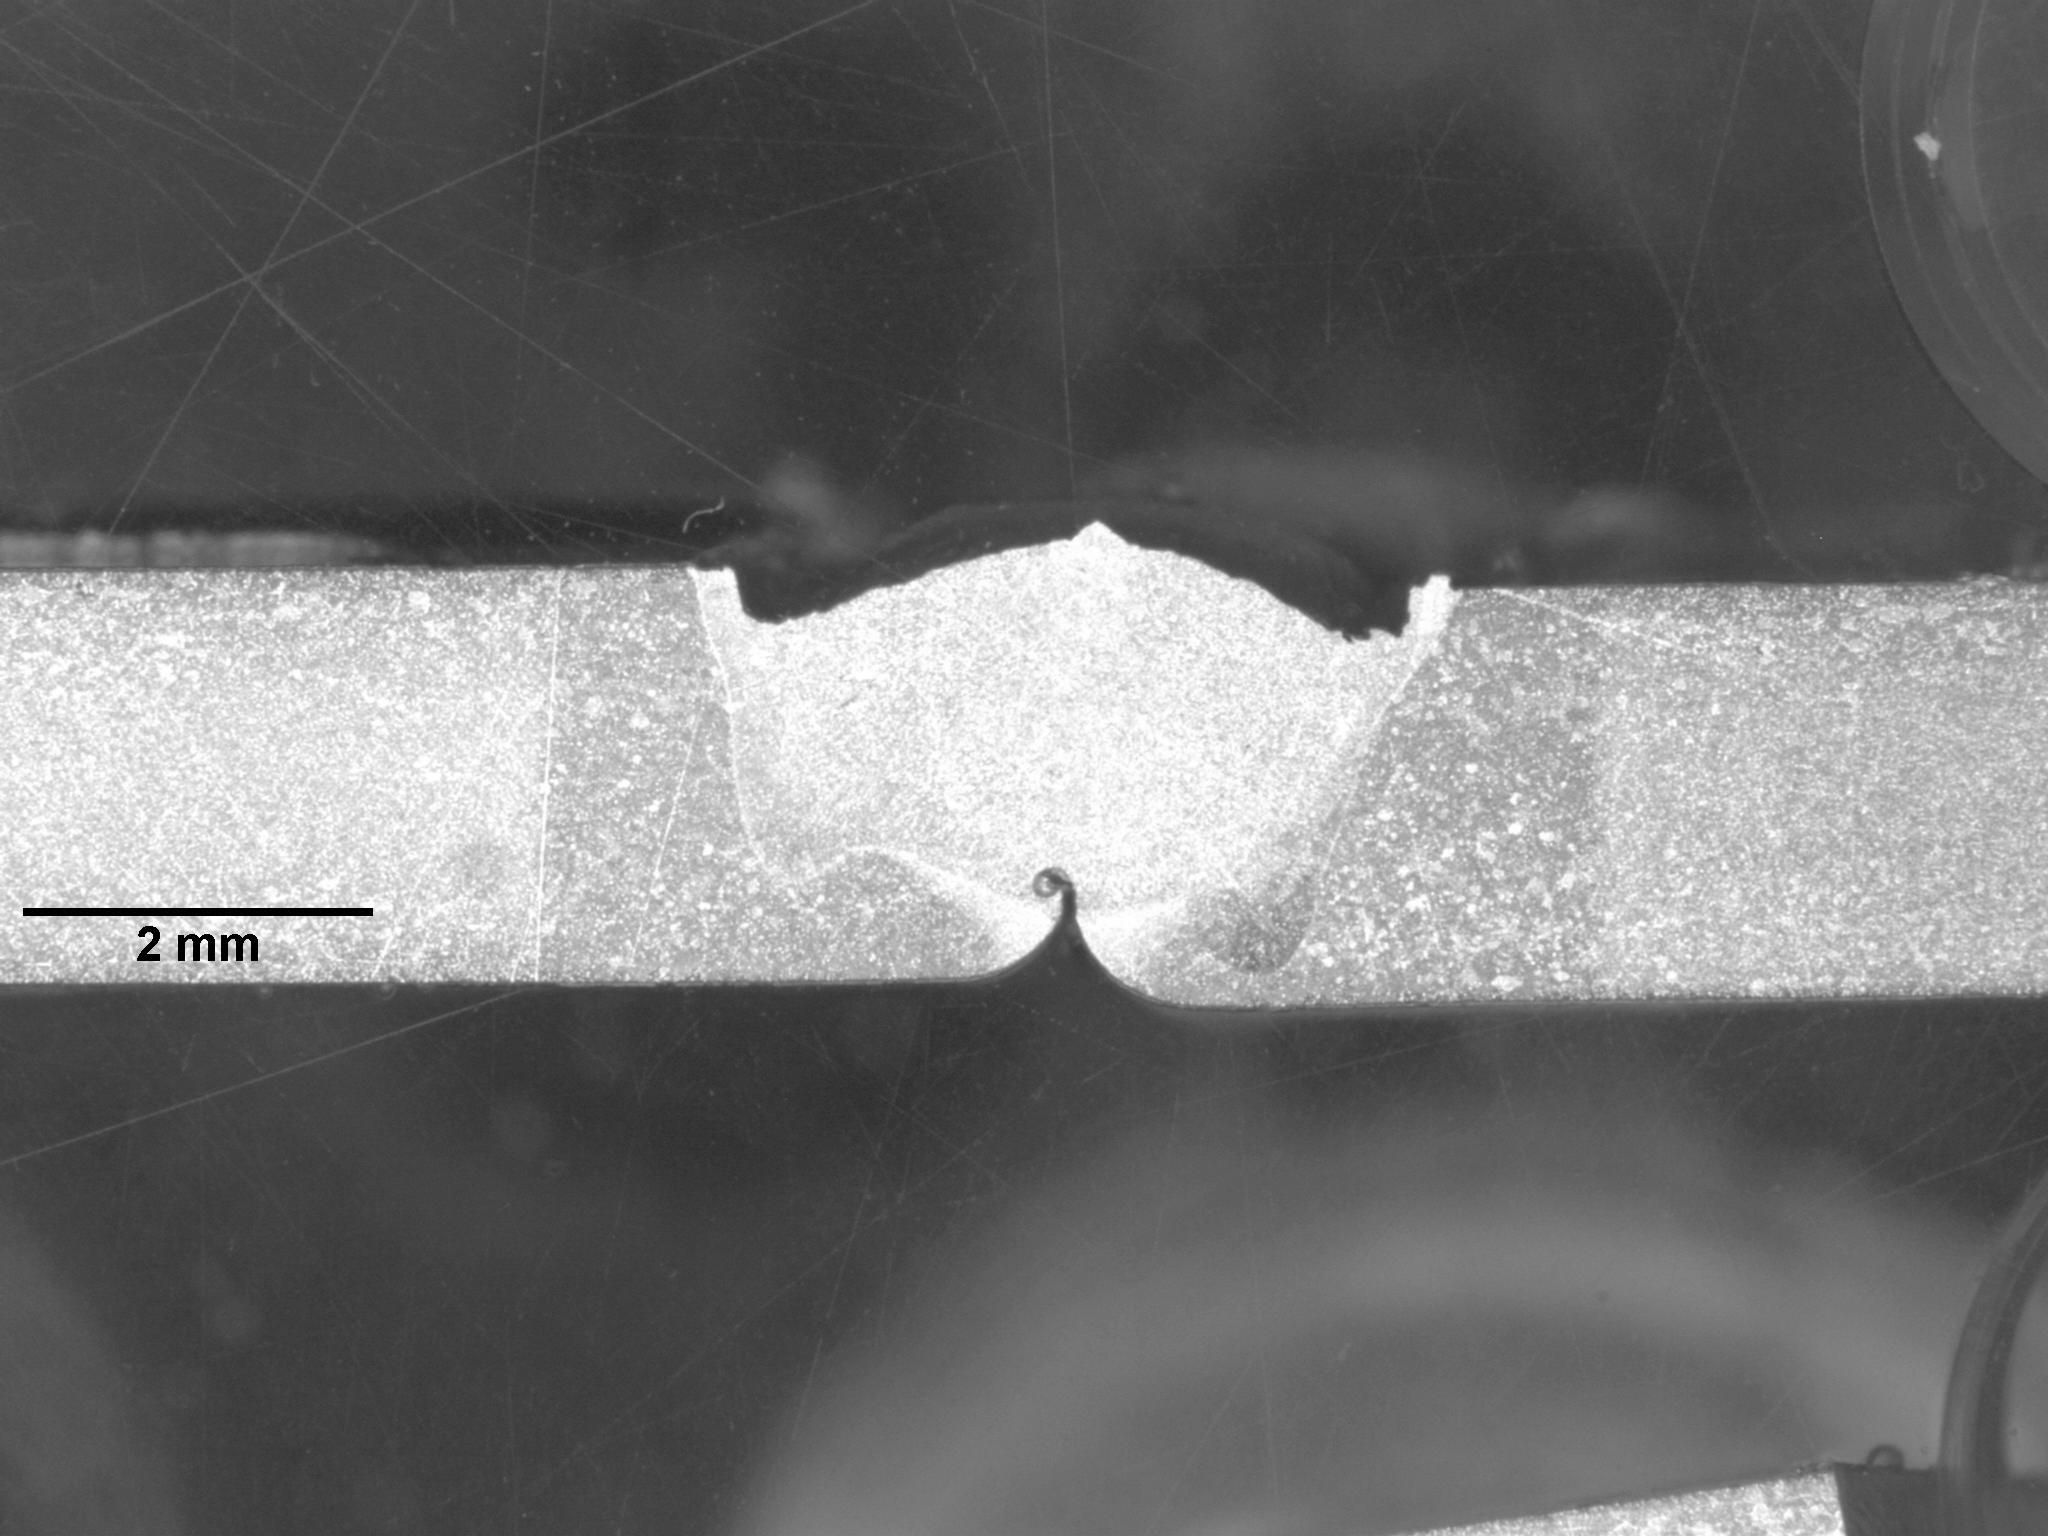Scale-bar: (15, 899, 382, 968)
